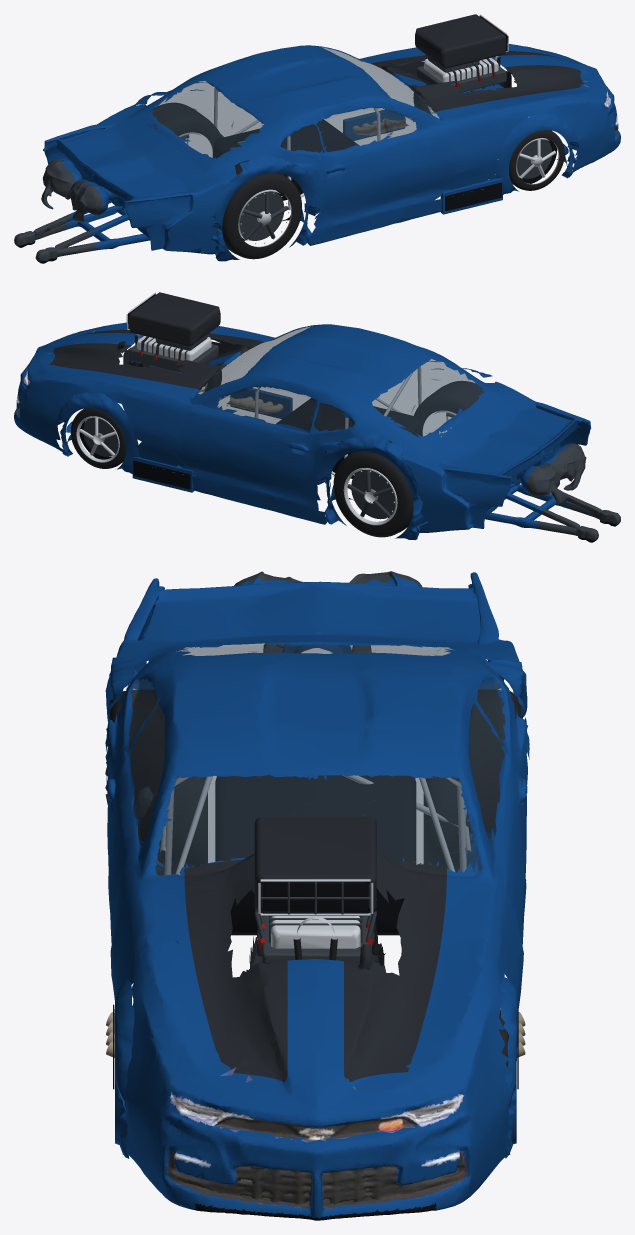
File: camaro-arch-candidate.glb
3 views of the same model, one above another, from view 1: azimuth 30°, elevation 25°; view 2: azimuth 150°, elevation 25°; view 3: azimuth 270°, elevation 25° (orthographic). The views are drawn at different scales.
Parts seen in each view (by area): view 1: body-paint, cabin-glazing, fender-lips, edh-wheel-rl, hood-carbon, rear-hardware, intake-hat, edh-wheel-fl, cabin-interior, blower-case, edh-wheel-rr, exhaust-surround (+3 smaller); view 2: body-paint, cabin-glazing, edh-wheel-rr, fender-lips, hood-carbon, rear-hardware, intake-hat, edh-wheel-fr, cabin-interior, blower-case, edh-wheel-rl, exhaust-surround (+3 smaller); view 3: body-paint, cabin-glazing, hood-carbon, cabin-interior, fascia-details, intake-hat, fender-lips, edh-wheel-rl, edh-wheel-rr, blower-case, cabin-rollcage, intake-throat (+3 smaller).
Part boxes in pixels (box(x1,y1,x2,y2)): body-paint: box(43, 44, 620, 254); cabin-glazing: box(149, 47, 439, 158); fender-lips: box(135, 90, 578, 261); edh-wheel-rl: box(222, 160, 301, 259); hood-carbon: box(371, 51, 583, 111); rear-hardware: box(14, 159, 103, 261); intake-hat: box(415, 14, 506, 68); edh-wheel-fl: box(509, 130, 564, 190); cabin-interior: box(213, 118, 359, 200); blower-case: box(417, 58, 506, 92); edh-wheel-rr: box(149, 102, 221, 157); exhaust-surround: box(343, 110, 502, 214); body-paint: box(14, 322, 591, 532); cabin-glazing: box(198, 326, 483, 436); edh-wheel-rr: box(333, 440, 413, 537); fender-lips: box(55, 368, 492, 539); hood-carbon: box(49, 329, 263, 389); rear-hardware: box(526, 443, 620, 540); intake-hat: box(129, 292, 220, 346); edh-wheel-fr: box(70, 408, 126, 468); cabin-interior: box(276, 398, 422, 478); blower-case: box(128, 336, 218, 372); edh-wheel-rl: box(414, 381, 483, 429); exhaust-surround: box(132, 388, 292, 492); body-paint: box(105, 572, 529, 1218); cabin-glazing: box(128, 643, 505, 875); hood-carbon: box(184, 851, 446, 1081); cabin-interior: box(215, 775, 416, 935); fascia-details: box(166, 1067, 467, 1209); intake-hat: box(254, 816, 376, 913); fender-lips: box(105, 657, 529, 1158); edh-wheel-rl: box(105, 689, 207, 875); edh-wheel-rr: box(423, 689, 521, 872); blower-case: box(262, 916, 368, 962); cabin-rollcage: box(160, 775, 471, 875); intake-throat: box(261, 882, 369, 913).
Bounding box in the file's own units: 1 × 0.2165 × 0.3169.
11 materials, 1 textured.
